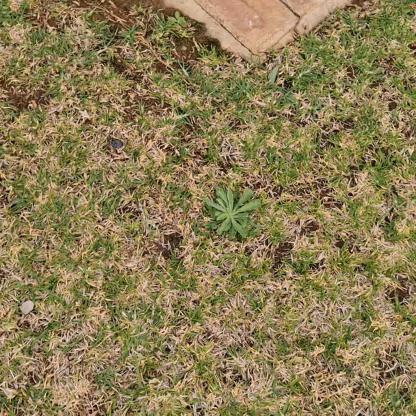Weeds: (204, 185, 263, 241), (168, 11, 188, 29)
